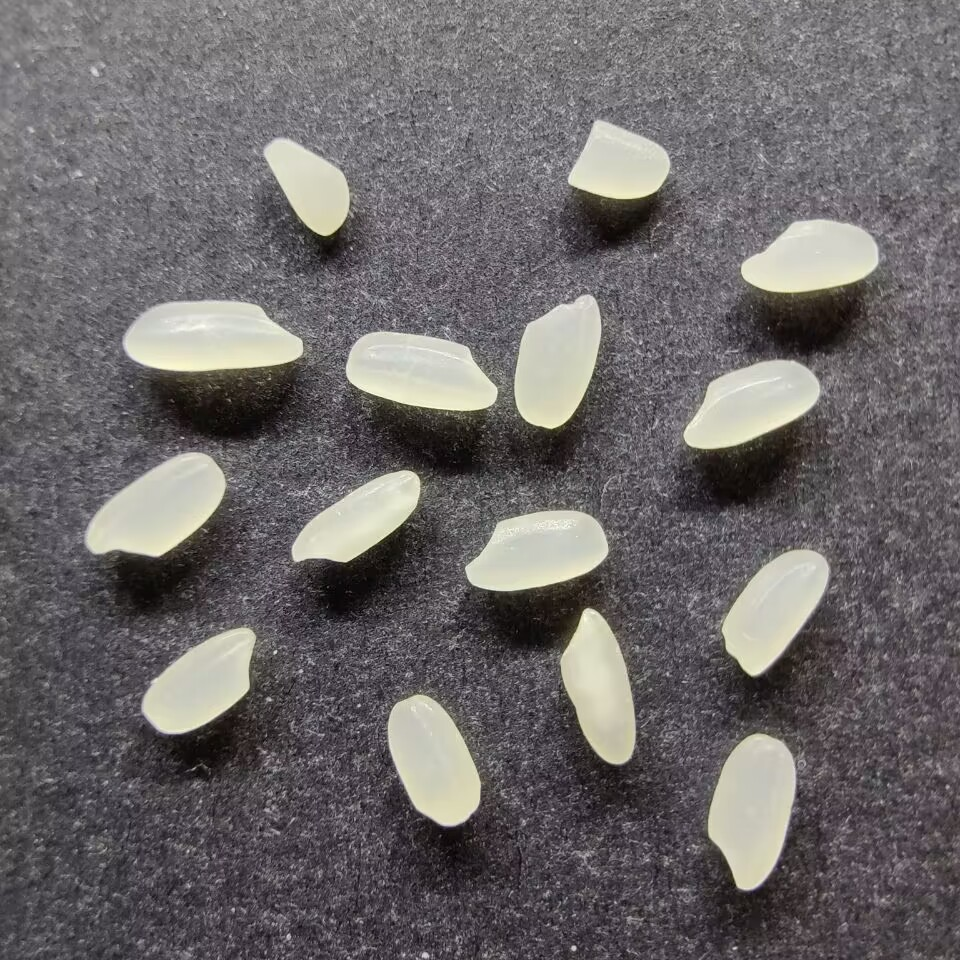broken: (263, 137, 349, 237), (566, 120, 670, 199)
rice: (84, 450, 225, 559), (706, 732, 797, 891), (720, 548, 829, 676), (122, 299, 303, 373), (385, 694, 482, 827), (681, 358, 821, 450), (140, 625, 257, 735), (289, 468, 421, 564), (344, 330, 498, 412), (558, 606, 637, 765), (513, 292, 601, 428), (464, 510, 608, 592), (739, 217, 879, 293)
